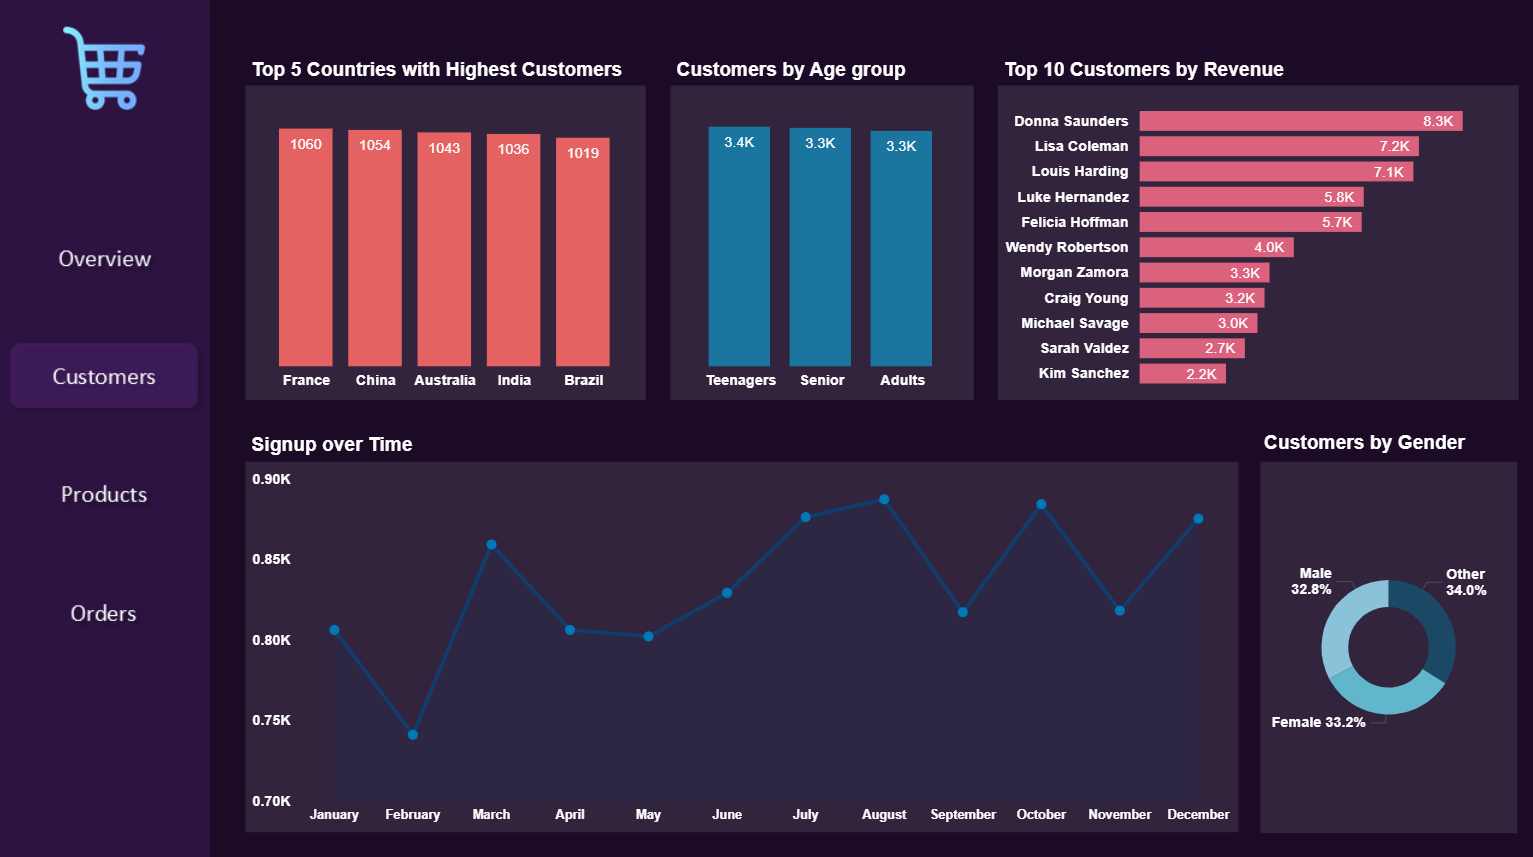

Layout of this report page (visuals, bound fields, positions):
{"tool":"powerbi","page":{"name":"Customers","canvas":[1280,720],"ordinal":1},"visuals":[{"type":"actionButton","box":[11.2,382.5,156.2,57.5],"z":0},{"type":"actionButton","box":[11.2,482.5,156.2,57.5],"z":1000},{"type":"actionButton","box":[11.2,190,156.2,57.5],"z":2000},{"type":"columnChart","fields":{"Category":["customers.age_group"],"Y":["customers.Total Customers"]},"box":[559.3,73.3,252.3,261.6],"z":3000},{"type":"donutChart","fields":{"Category":["customers.gender"],"Y":["customers.Total Customers"]},"box":[1050,385.6,213.3,308.9],"z":4000},{"type":"columnChart","fields":{"Category":["customers.country"],"Y":["customers.Total Customers"]},"box":[205.8,73.3,332.6,261.6],"z":5000},{"type":"lineChart","fields":{"Category":["customers.signup_date.Variation.Date Hierarchy.Month"],"Y":["customers.Total Customers"]},"box":[205.8,386,825.6,308.1],"z":6000},{"type":"barChart","fields":{"Category":["customers.full_name"],"Y":["customers.Total Revenue"]},"box":[831.4,73.3,432.6,261.6],"z":7000},{"type":"textbox","box":[205.8,45.3,332.6,34.9],"z":8000},{"type":"textbox","box":[559,46,317,35],"z":9000},{"type":"textbox","box":[831.1,45.6,315.6,34.4],"z":10000},{"type":"textbox","box":[205.6,357.8,315.6,34.4],"z":11000},{"type":"textbox","box":[1047.1,355.7,198.6,35.7],"z":12000}]}

Visuals, with their boxes on the page's 1280x720 design canvas (x1, y1, x2, y2). These are canvas units, not pixel positions in the 1533x857 screenshot, which may show the page scaled, cropped or inside an application window:
actionButton: box(11, 382, 167, 440)
actionButton: box(11, 482, 167, 540)
actionButton: box(11, 190, 167, 248)
columnChart - customers.age_group x customers.Total Customers: box(559, 73, 812, 335)
donutChart - customers.gender x customers.Total Customers: box(1050, 386, 1263, 694)
columnChart - customers.country x customers.Total Customers: box(206, 73, 538, 335)
lineChart - customers.signup_date.Variation.Date Hierarchy.Month x customers.Total Customers: box(206, 386, 1031, 694)
barChart - customers.full_name x customers.Total Revenue: box(831, 73, 1264, 335)
textbox: box(206, 45, 538, 80)
textbox: box(559, 46, 876, 81)
textbox: box(831, 46, 1147, 80)
textbox: box(206, 358, 521, 392)
textbox: box(1047, 356, 1246, 391)
